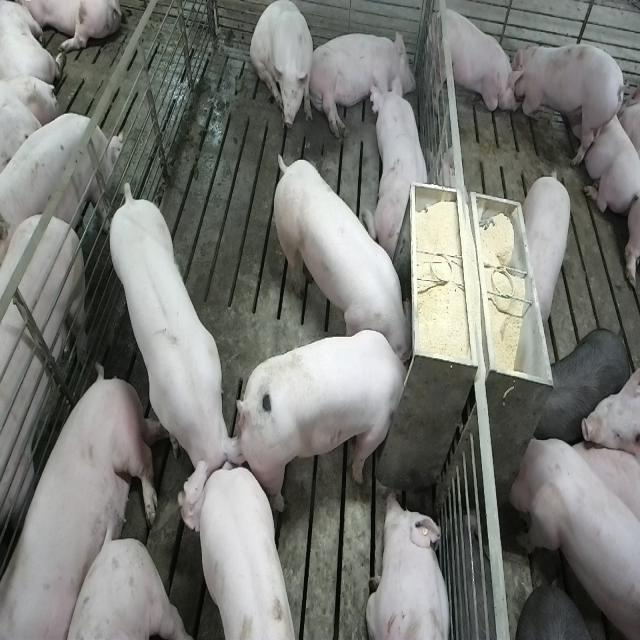Feeding: (244, 329, 418, 513), (269, 146, 411, 360)
Lateral_lying: (4, 366, 158, 640), (307, 27, 418, 139)
Sitting: (423, 0, 516, 124), (251, 2, 315, 136)
Standing: (108, 180, 245, 512), (0, 206, 89, 617), (507, 434, 638, 640), (182, 466, 300, 640), (0, 107, 119, 255), (510, 36, 625, 164), (536, 326, 630, 444), (523, 166, 575, 323)
Sternal_lying: (366, 490, 453, 640), (368, 76, 433, 264), (574, 84, 638, 212)
